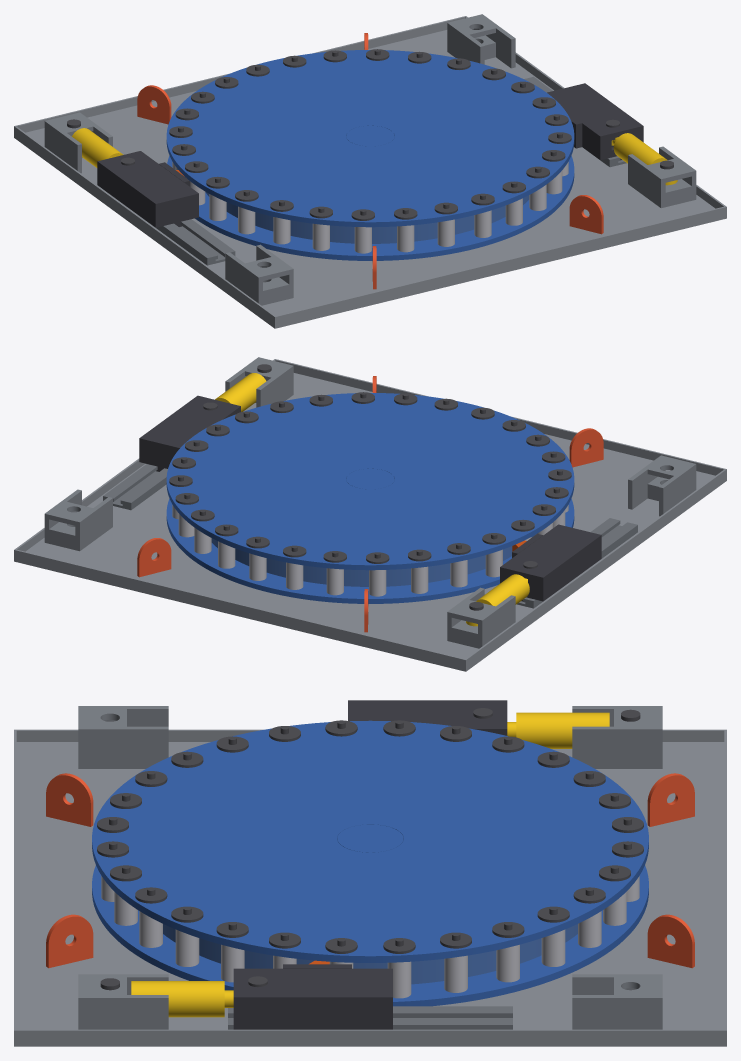
3 renders of one model, top to bottom at view 1: azimuth 30°, elevation 25°; view 2: azimuth 150°, elevation 25°; view 3: azimuth 270°, elevation 25°, orthographic. The views are drawn at different scales.
Parts seen in each view (by area): view 1: TT300C-MES-001-B Plancha superior de la mesa, TT300C-BAS-001-B Plancha base, TT300C-MES-002-B Anillo superior de pasadores, TT300C-ACC-003-B PatÃn guiado, TT300C-BAS-003-B Marco perimetral largo, TT300C-MES-013-B Perno ISO 4762 M20Ã45 con arandela, TT300C-BAS-005-B Mejilla de mÃ©nsula, TT300C-MES-004-B Anillo inferior de pasadores, TT300C-MES-012-B Pasador de empuje, TT300C-BAS-004-B Marco perimetral corto, TT300C-MES-007-B Alma anular R840, TT300C-IZA-001-B Oreja de izaje (+5 smaller); view 2: TT300C-MES-001-B Plancha superior de la mesa, TT300C-BAS-001-B Plancha base, TT300C-MES-002-B Anillo superior de pasadores, TT300C-ACC-003-B PatÃn guiado, TT300C-BAS-003-B Marco perimetral largo, TT300C-MES-013-B Perno ISO 4762 M20Ã45 con arandela, TT300C-BAS-005-B Mejilla de mÃ©nsula, TT300C-MES-004-B Anillo inferior de pasadores, TT300C-MES-012-B Pasador de empuje, TT300C-BAS-004-B Marco perimetral corto, TT300C-ACC-001-B Bancada de guÃa con ranura T, TT300C-MES-007-B Alma anular R840 (+5 smaller); view 3: TT300C-MES-001-B Plancha superior de la mesa, TT300C-BAS-001-B Plancha base, TT300C-MES-002-B Anillo superior de pasadores, TT300C-BAS-005-B Mejilla de mÃ©nsula, TT300C-ACC-003-B PatÃn guiado, TT300C-MES-013-B Perno ISO 4762 M20Ã45 con arandela, TT300C-BAS-004-B Marco perimetral corto, TT300C-MES-004-B Anillo inferior de pasadores, TT300C-IZA-001-B Oreja de izaje, TT300C-MES-012-B Pasador de empuje, TT300C-ACC-002-B Cilindro hidrÃ¡ulico doble efecto, TT300C-MES-007-B Alma anular R840 (+4 smaller).
Boxes of the visible parts, <box> form: TT300C-MES-001-B Plancha superior de la mesa: <box>195,62,545,209</box>; TT300C-BAS-001-B Plancha base: <box>14,30,726,328</box>; TT300C-MES-002-B Anillo superior de pasadores: <box>166,50,574,227</box>; TT300C-ACC-003-B PatÃn guiado: <box>97,83,643,227</box>; TT300C-BAS-003-B Marco perimetral largo: <box>14,16,726,325</box>; TT300C-MES-013-B Perno ISO 4762 M20Ã45 con arandela: <box>169,49,571,220</box>; TT300C-BAS-005-B Mejilla de mÃ©nsula: <box>44,14,696,305</box>; TT300C-MES-004-B Anillo inferior de pasadores: <box>167,156,574,260</box>; TT300C-MES-012-B Pasador de empuje: <box>172,162,568,253</box>; TT300C-BAS-004-B Marco perimetral corto: <box>15,16,725,324</box>; TT300C-MES-007-B Alma anular R840: <box>205,192,529,243</box>; TT300C-IZA-001-B Oreja de izaje: <box>137,33,603,289</box>; TT300C-MES-001-B Plancha superior de la mesa: <box>195,405,545,552</box>; TT300C-BAS-001-B Plancha base: <box>14,373,726,671</box>; TT300C-MES-002-B Anillo superior de pasadores: <box>166,393,574,570</box>; TT300C-ACC-003-B PatÃn guiado: <box>139,395,601,601</box>; TT300C-BAS-003-B Marco perimetral largo: <box>14,359,726,668</box>; TT300C-MES-013-B Perno ISO 4762 M20Ã45 con arandela: <box>169,392,571,563</box>; TT300C-BAS-005-B Mejilla de mÃ©nsula: <box>44,357,696,648</box>; TT300C-MES-004-B Anillo inferior de pasadores: <box>166,499,574,603</box>; TT300C-MES-012-B Pasador de empuje: <box>172,505,568,596</box>; TT300C-BAS-004-B Marco perimetral corto: <box>15,359,725,667</box>; TT300C-ACC-001-B Bancada de guÃa con ranura T: <box>103,464,637,608</box>; TT300C-MES-007-B Alma anular R840: <box>211,535,534,586</box>; TT300C-MES-001-B Plancha superior de la mesa: <box>131,737,609,939</box>; TT300C-BAS-001-B Plancha base: <box>14,742,726,1046</box>; TT300C-MES-002-B Anillo superior de pasadores: <box>92,720,648,962</box>; TT300C-BAS-005-B Mejilla de mÃ©nsula: <box>78,706,662,1029</box>; TT300C-ACC-003-B PatÃn guiado: <box>233,700,507,1029</box>; TT300C-MES-013-B Perno ISO 4762 M20Ã45 con arandela: <box>97,720,643,953</box>; TT300C-BAS-004-B Marco perimetral corto: <box>16,729,724,1042</box>; TT300C-MES-004-B Anillo inferior de pasadores: <box>92,865,648,1006</box>; TT300C-IZA-001-B Oreja de izaje: <box>46,773,694,968</box>; TT300C-MES-012-B Pasador de empuje: <box>101,876,639,998</box>; TT300C-ACC-002-B Cilindro hidrÃ¡ulico doble efecto: <box>131,712,609,1017</box>; TT300C-MES-007-B Alma anular R840: <box>163,924,577,984</box>.
Bounding box in the file's own units: 2560 × 258 × 2560.
